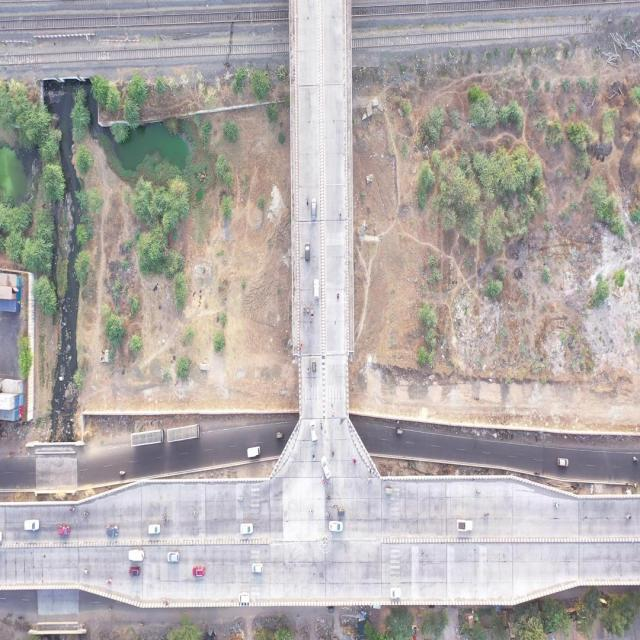3W: (382, 482, 393, 496), (394, 425, 404, 438), (274, 429, 284, 441), (310, 359, 319, 372), (336, 508, 346, 517)
Cars: (327, 518, 348, 536), (23, 515, 40, 534), (125, 547, 146, 562), (192, 562, 206, 584), (248, 560, 266, 577), (104, 520, 120, 538), (237, 520, 253, 538), (389, 579, 402, 601), (233, 590, 253, 604), (124, 564, 142, 579), (144, 521, 162, 536), (308, 418, 318, 444), (322, 456, 332, 479), (56, 524, 72, 538), (166, 548, 180, 564), (554, 456, 571, 469), (310, 193, 318, 218), (304, 238, 311, 262), (313, 277, 320, 300)
LCV: (244, 440, 263, 460), (456, 516, 474, 535)
M2W: (82, 506, 92, 522), (81, 562, 90, 575), (329, 404, 336, 420), (190, 507, 200, 518), (234, 493, 244, 504), (622, 511, 632, 522), (308, 449, 317, 461), (551, 498, 560, 510), (351, 453, 358, 468), (68, 501, 76, 514), (118, 468, 127, 478), (631, 453, 639, 464), (335, 285, 340, 302), (337, 208, 343, 222), (303, 193, 309, 207), (163, 515, 170, 526), (472, 488, 481, 496), (484, 510, 491, 520), (307, 507, 313, 516), (301, 305, 306, 315), (310, 308, 314, 320), (306, 367, 310, 376)
MAV: (165, 420, 202, 445), (128, 430, 166, 447)
